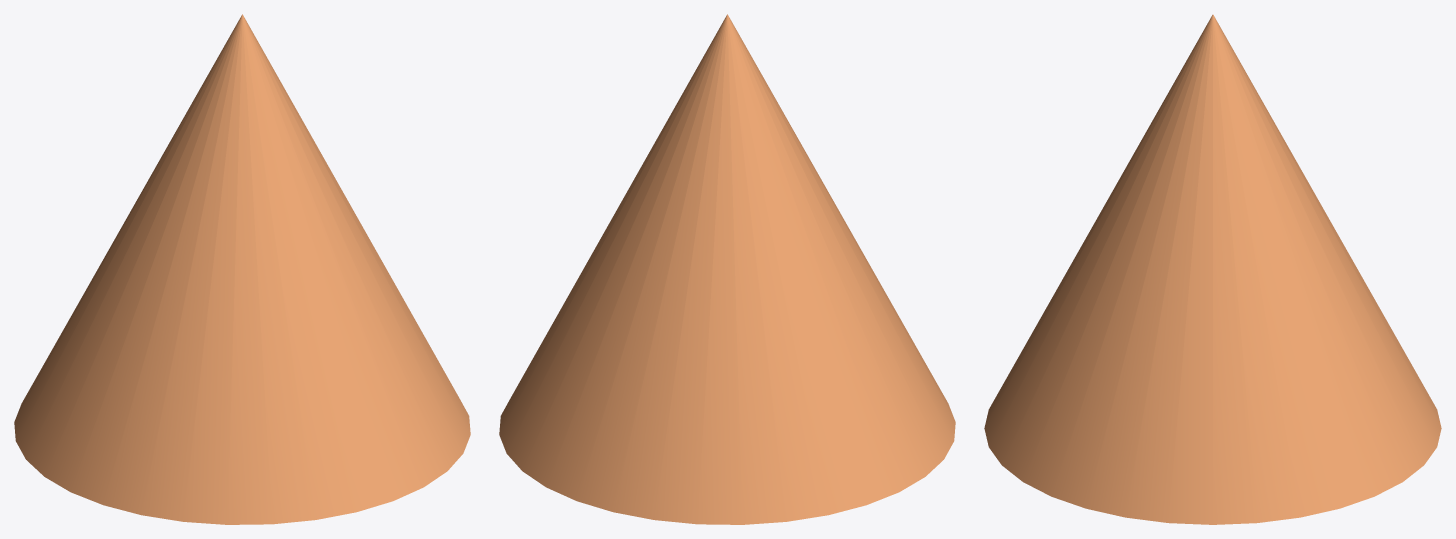
3 renders of one model, left to right at view 1: azimuth 30°, elevation 25°; view 2: azimuth 150°, elevation 25°; view 3: azimuth 270°, elevation 25°, orthographic.
Parts seen in each view (by area): view 1: cone; view 2: cone; view 3: cone.
Boxes of the visible parts, box(x1,y1,x2,y2) form: cone: box(14, 14, 470, 524); cone: box(499, 14, 955, 524); cone: box(984, 14, 1441, 524).
Bounding box in the file's own units: 1 × 1 × 1.
